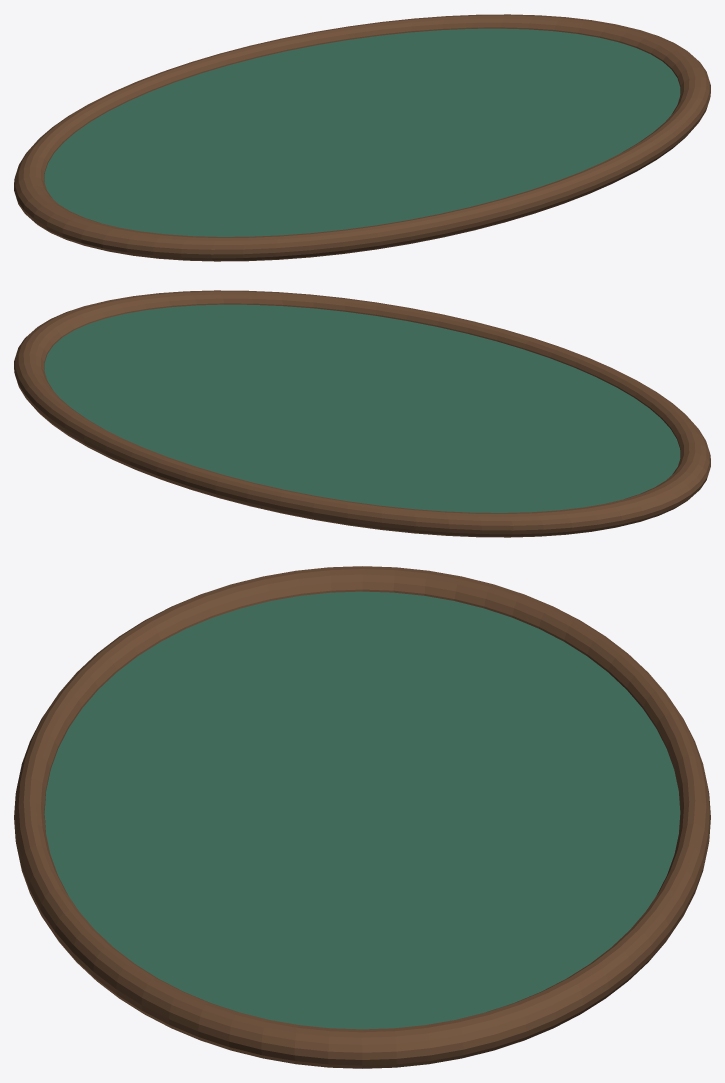
Rendered from felt_table.glb.
3 renders of one model, top to bottom at view 1: azimuth 30°, elevation 25°; view 2: azimuth 150°, elevation 25°; view 3: azimuth 270°, elevation 25°, orthographic. The views are drawn at different scales.
Visible parts, largest first — view 1: CasinoTable; view 2: CasinoTable; view 3: CasinoTable.
Part boxes in pixels (box(x1,y1,x2,y2)): CasinoTable: box(14, 14, 710, 261); CasinoTable: box(14, 290, 710, 537); CasinoTable: box(14, 566, 710, 1068).
Bounding box in the file's own units: 11.14 × 0.36 × 6.77.
